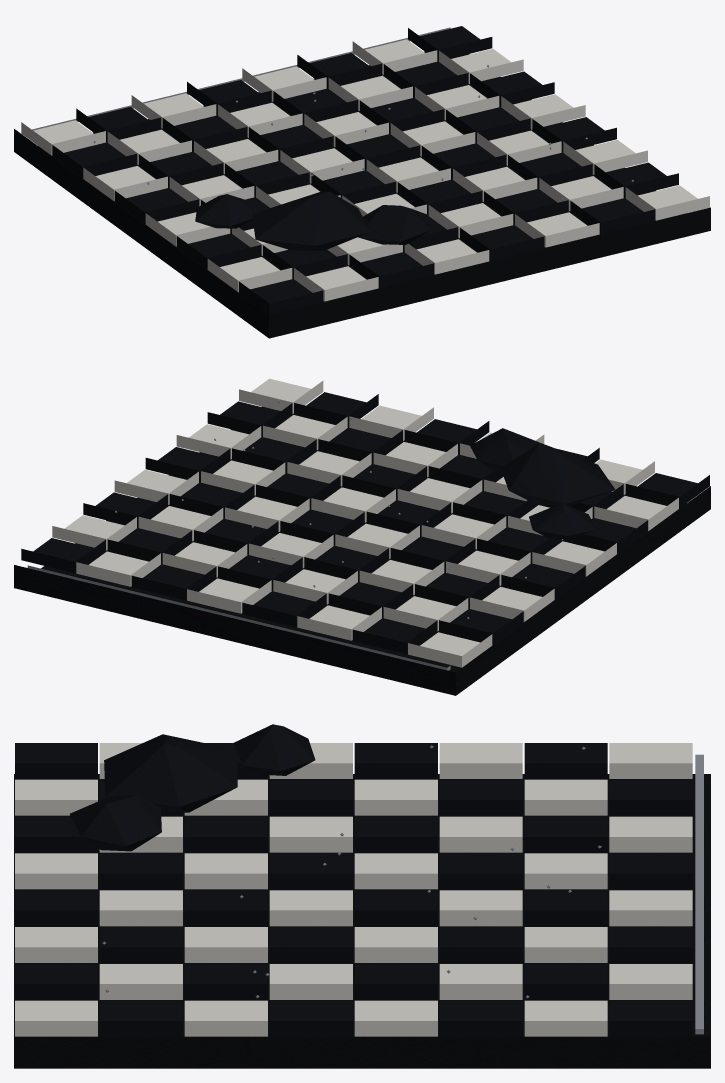
Rendered from v5_deck.glb.
3 renders of one model, top to bottom at view 1: azimuth 30°, elevation 25°; view 2: azimuth 150°, elevation 25°; view 3: azimuth 270°, elevation 25°, orthographic. The views are drawn at different scales.
Visible parts, largest first — view 1: Pavers_A, Pavers_B, Deck_Slab, Boulder_Seats, Deck_Drain; view 2: Pavers_B, Pavers_A, Deck_Slab, Boulder_Seats, Deck_Drain; view 3: Pavers_B, Pavers_A, Deck_Slab, Boulder_Seats, Deck_Drain.
Boxes of the visible parts, x1,y1,x2,y2 form: Pavers_A: [21, 39, 709, 301]; Pavers_B: [52, 26, 678, 314]; Deck_Slab: [14, 51, 710, 338]; Boulder_Seats: [195, 191, 430, 250]; Deck_Drain: [32, 27, 450, 130]; Pavers_B: [21, 392, 709, 654]; Pavers_A: [52, 378, 678, 667]; Deck_Slab: [14, 406, 710, 695]; Boulder_Seats: [470, 428, 615, 539]; Deck_Drain: [27, 565, 450, 670]; Pavers_B: [15, 743, 692, 1036]; Pavers_A: [15, 743, 692, 1036]; Deck_Slab: [14, 774, 710, 1068]; Boulder_Seats: [69, 724, 315, 851]; Deck_Drain: [695, 754, 703, 1034].
Size of what is drawn, in the model's own units: 4 by 0.6793 by 4.
Materials: 5 (3 with a texture image).
